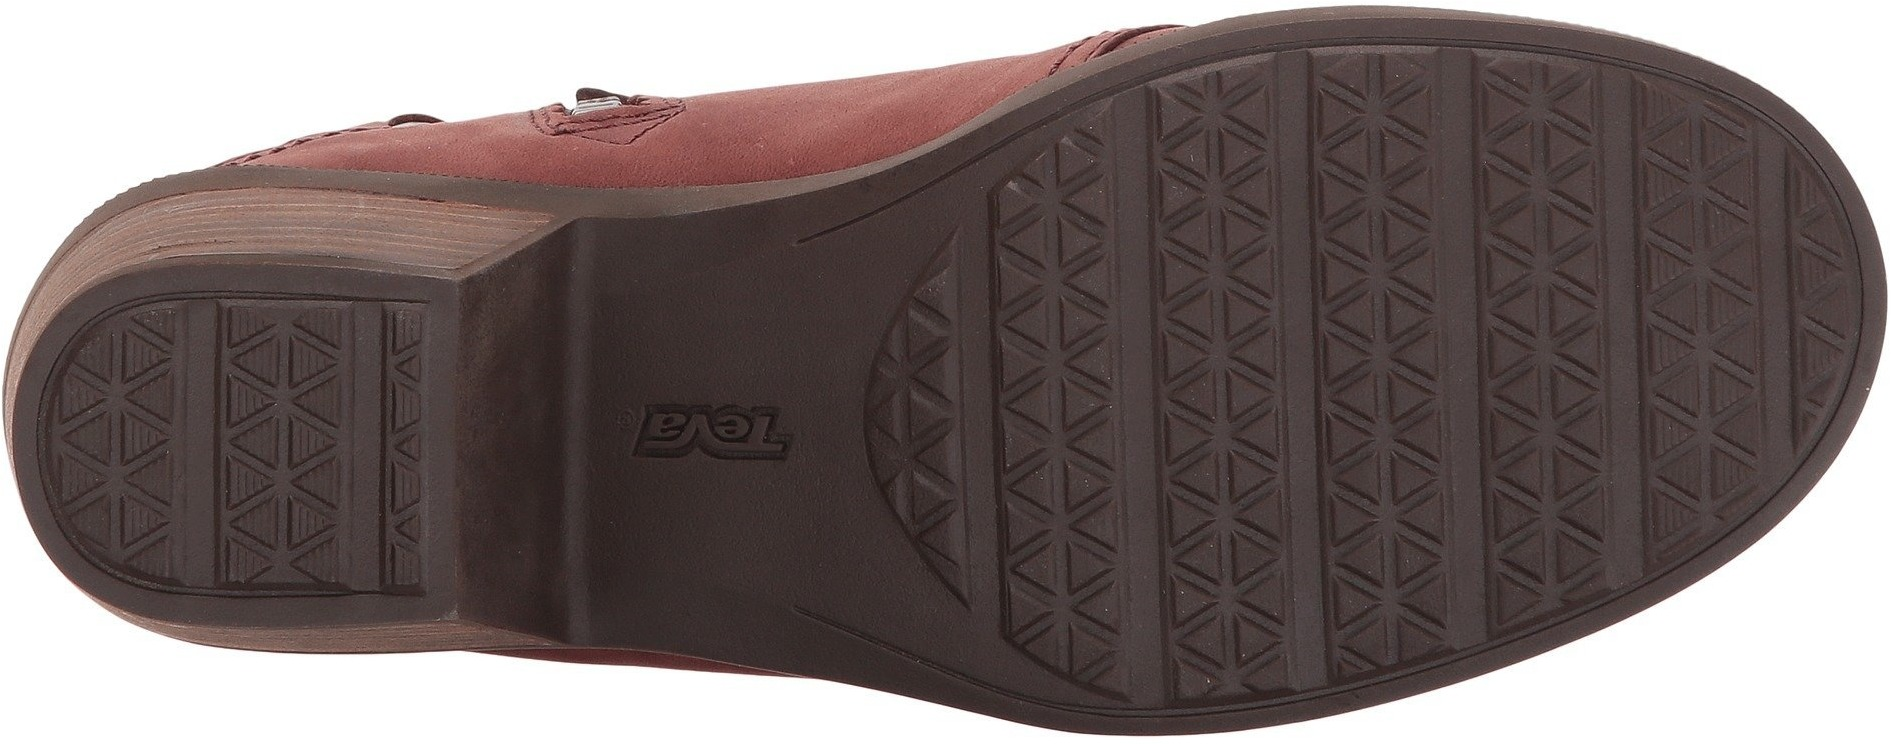exclude: (592, 121, 883, 707)
text: (627, 344, 800, 504), (706, 389, 796, 480), (622, 383, 712, 471)
triangle: (1151, 74, 1608, 505), (904, 293, 1113, 523), (1167, 519, 1372, 702), (217, 446, 355, 587), (1632, 145, 1761, 289), (222, 306, 352, 443), (60, 314, 182, 437), (62, 430, 185, 547), (1640, 294, 1763, 408)
